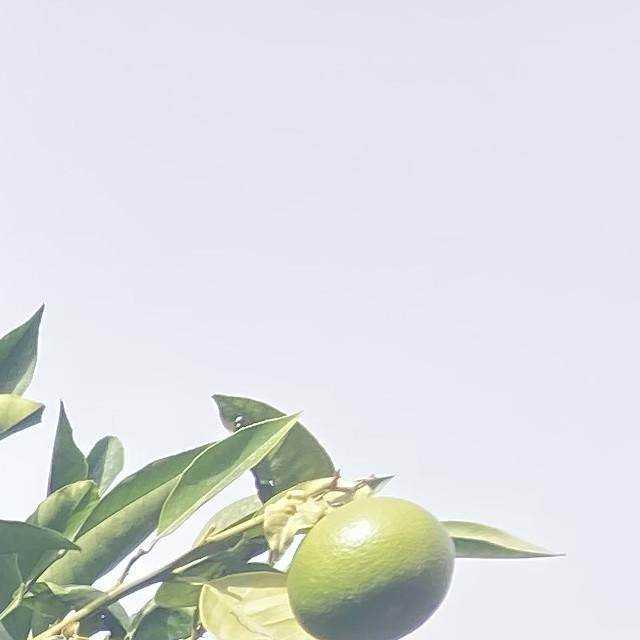orange: (276, 494, 458, 640)
